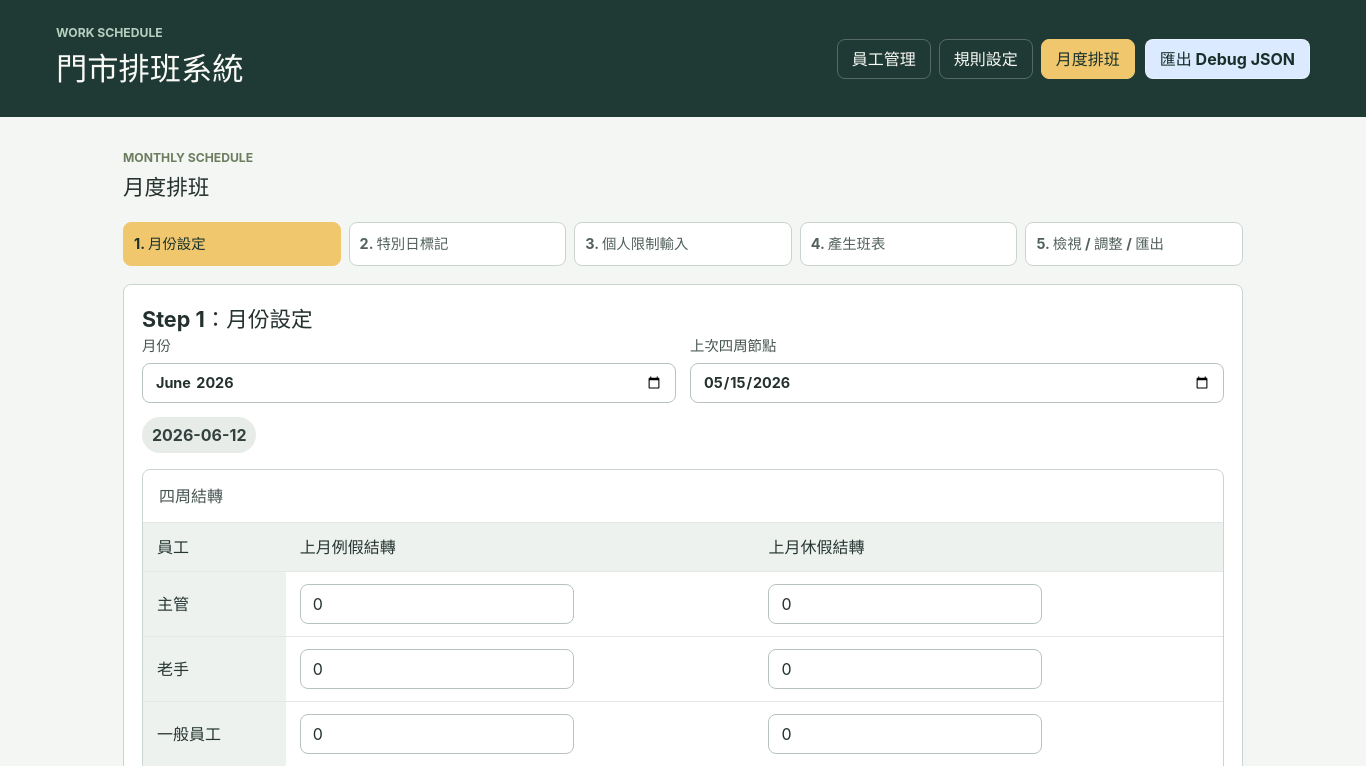
Scenario: App › reorders employees and rule priorities
Later steps or results of the test are not shown.
Click the tab "員工管理": (884, 59) [837,39,931,79]
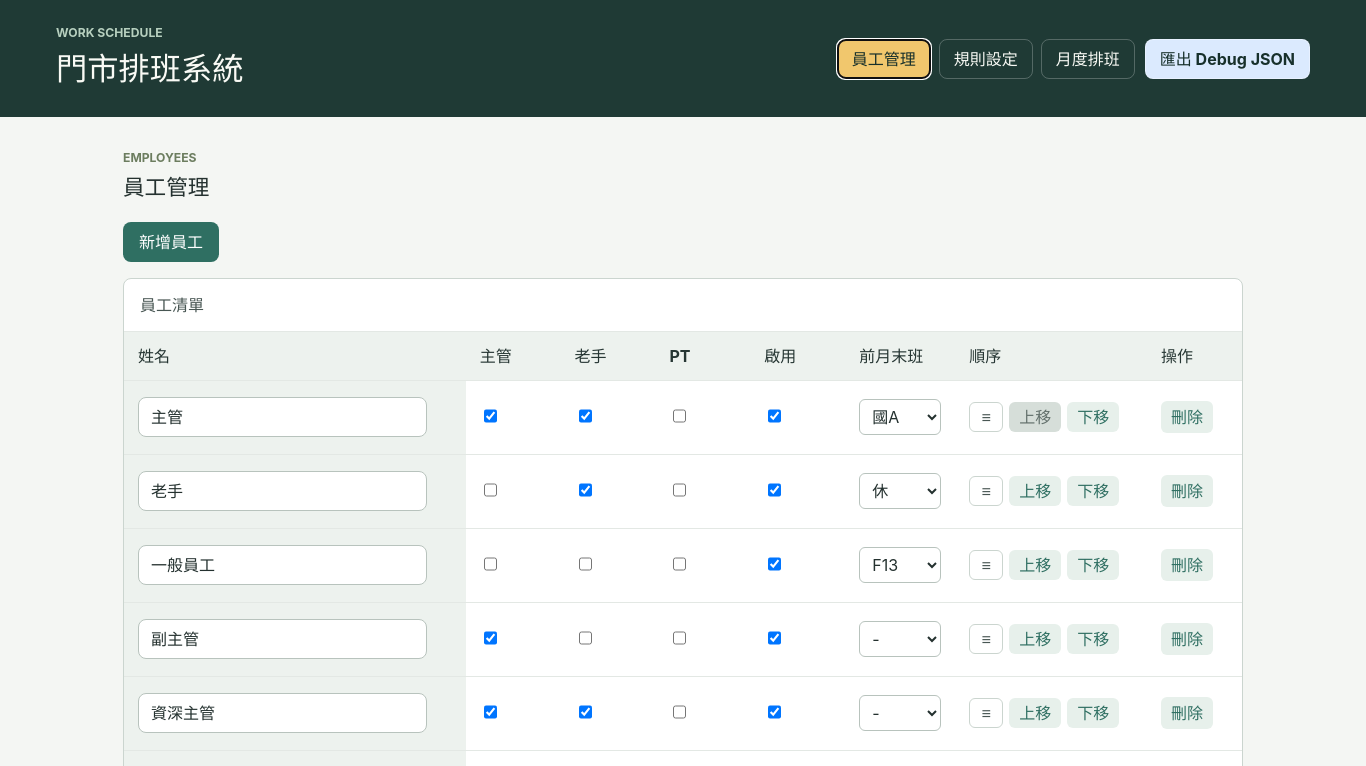
Click the button with aria-label "員工 2 上移": (1035, 491) [1009,476,1061,506]
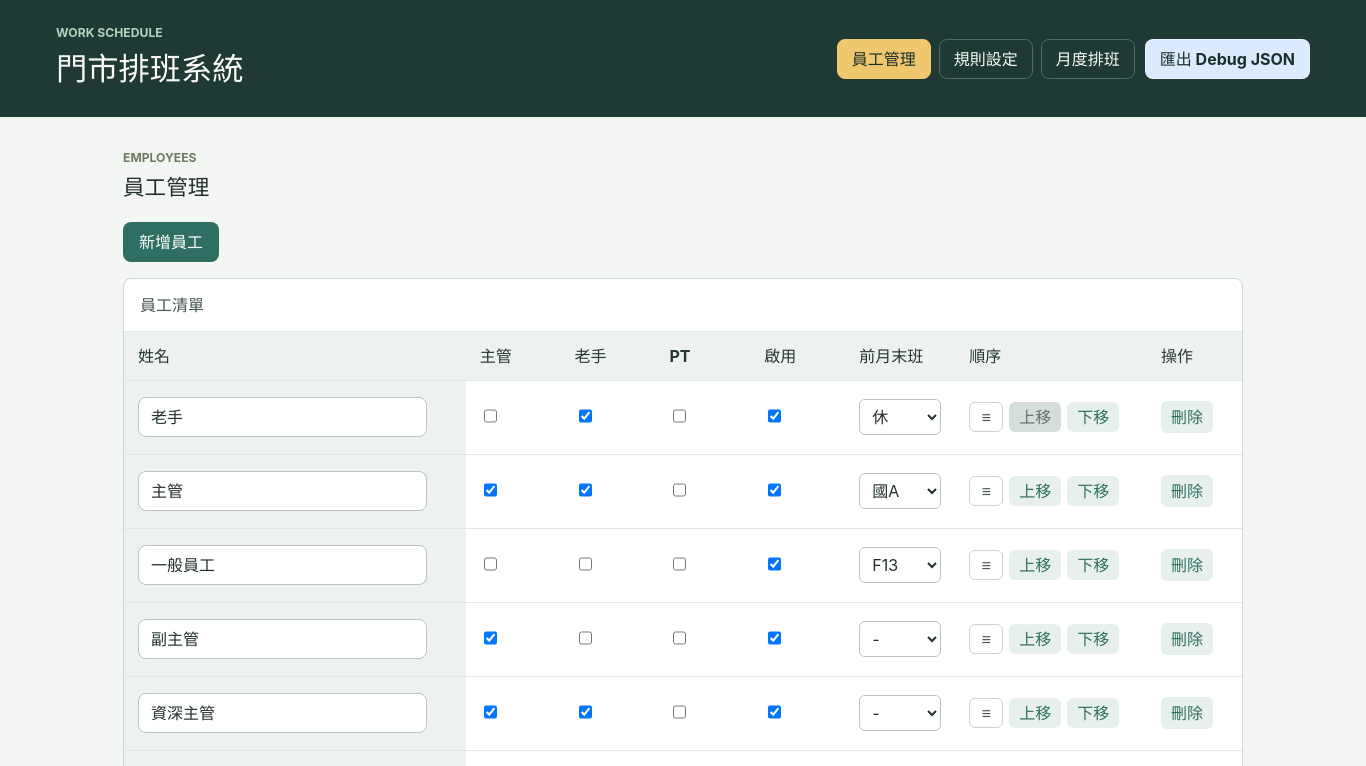
Check: the field named "員工 1 姓名" holds "老手", box [138,397,427,437]
